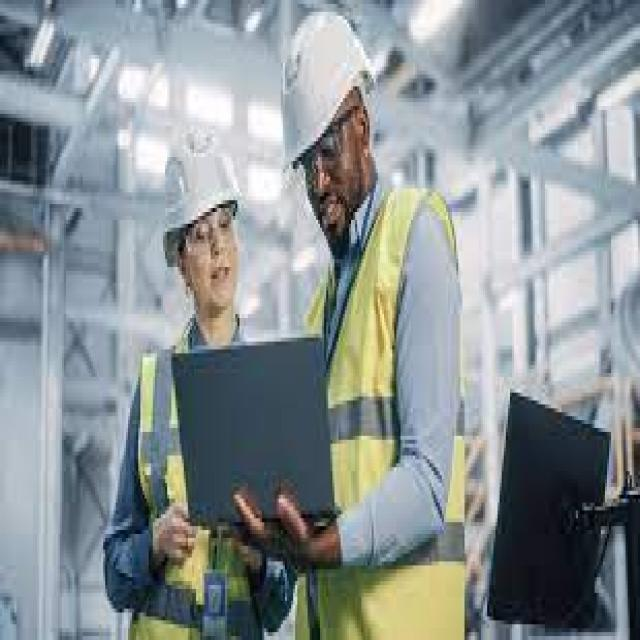Reflective-Jacket: (295, 177, 479, 632), (124, 326, 277, 640)
Safety-Helmet: (274, 4, 380, 173), (155, 122, 248, 247)
